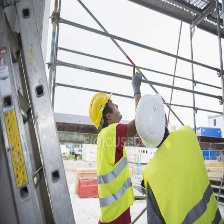helmet: (134, 97, 169, 148), (90, 89, 108, 127)
person: (134, 92, 224, 224), (90, 92, 136, 224)
vest: (150, 159, 219, 224), (96, 129, 135, 218)
